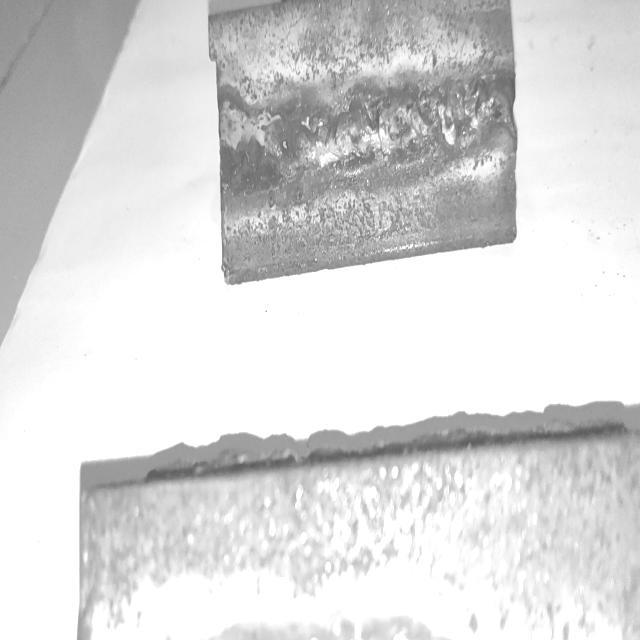Defect: (309, 78, 508, 162)
Welding Line: (231, 78, 506, 182)
Workpiece: (208, 0, 512, 278)
